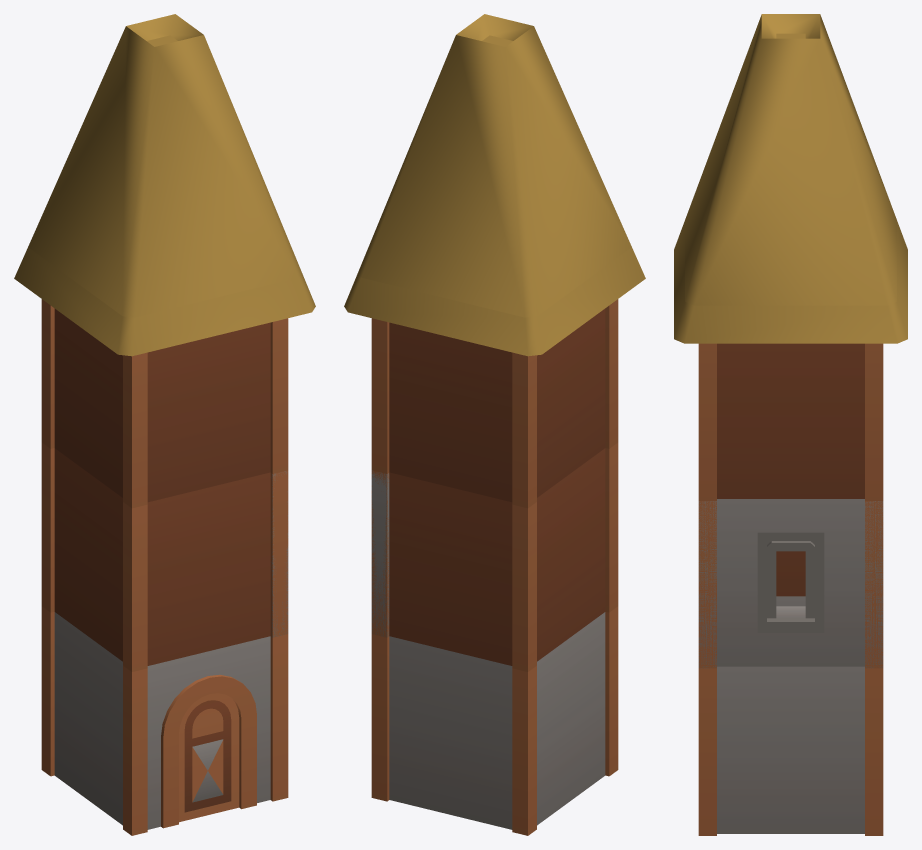
The model's file is moulin.glb.
3 renders of one model, left to right at view 1: azimuth 30°, elevation 25°; view 2: azimuth 150°, elevation 25°; view 3: azimuth 270°, elevation 25°, orthographic. The views are drawn at different scales.
Parts seen in each view (by area): view 1: wall-door, roof-high-point; view 2: wall-door, roof-high-point; view 3: wall-door, roof-high-point.
Part boxes in pixels (x1,y1,x2,y2): wall-door: [41, 299, 288, 835]; roof-high-point: [14, 14, 315, 356]; wall-door: [371, 299, 618, 835]; roof-high-point: [344, 14, 645, 356]; wall-door: [698, 343, 883, 835]; roof-high-point: [674, 14, 907, 343].
Bounding box in the file's own units: 3.8 × 13.8 × 3.8.
2 materials, 1 textured.
